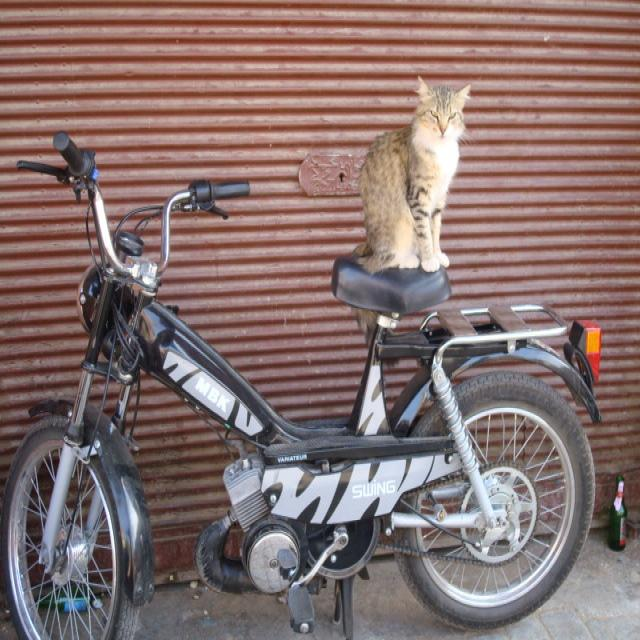motor: (11, 136, 604, 634)
